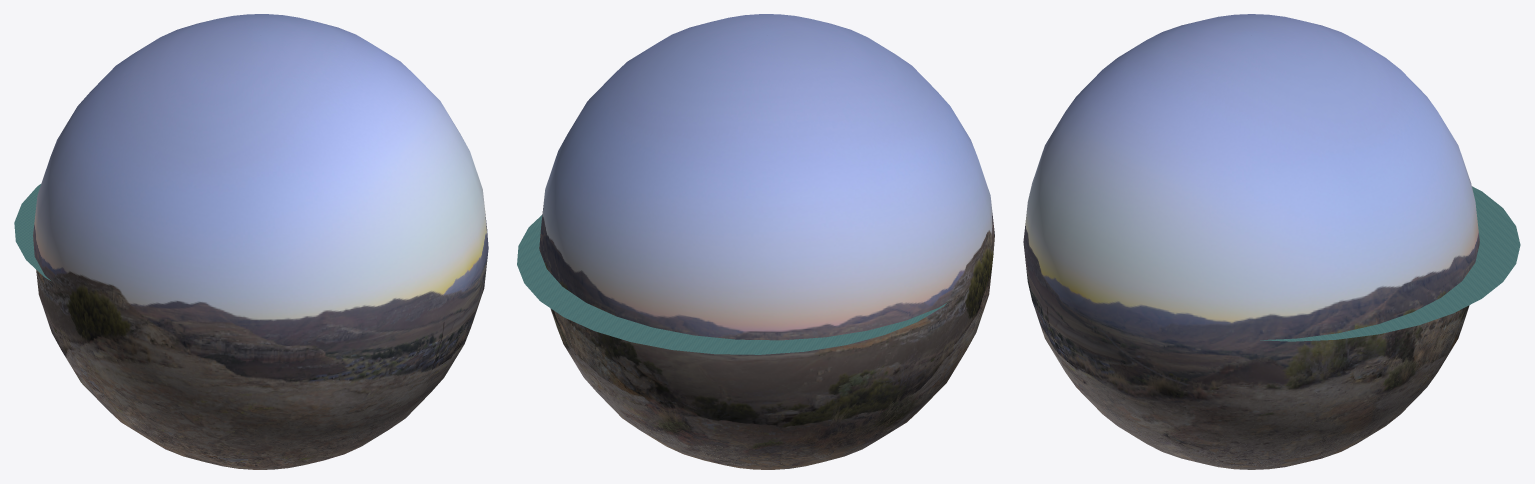
The picture shows the model from 3 angles, left to right: view 1: azimuth 30°, elevation 25°; view 2: azimuth 150°, elevation 25°; view 3: azimuth 270°, elevation 25°; orthographic projection.
Parts seen in each view (by area): view 1: backplate, WaterDayTime; view 2: backplate, WaterDayTime; view 3: backplate, WaterDayTime.
Boxes of the visible parts, box(x1,y1,x2,y2) form: backplate: box(33, 14, 488, 469); WaterDayTime: box(14, 184, 50, 280); backplate: box(539, 14, 994, 469); WaterDayTime: box(517, 215, 947, 354); backplate: box(1023, 14, 1479, 469); WaterDayTime: box(1260, 186, 1520, 341).
Bounding box in the file's own units: 1082 × 1076 × 1172.
Materials: 19 (18 with a texture image).
